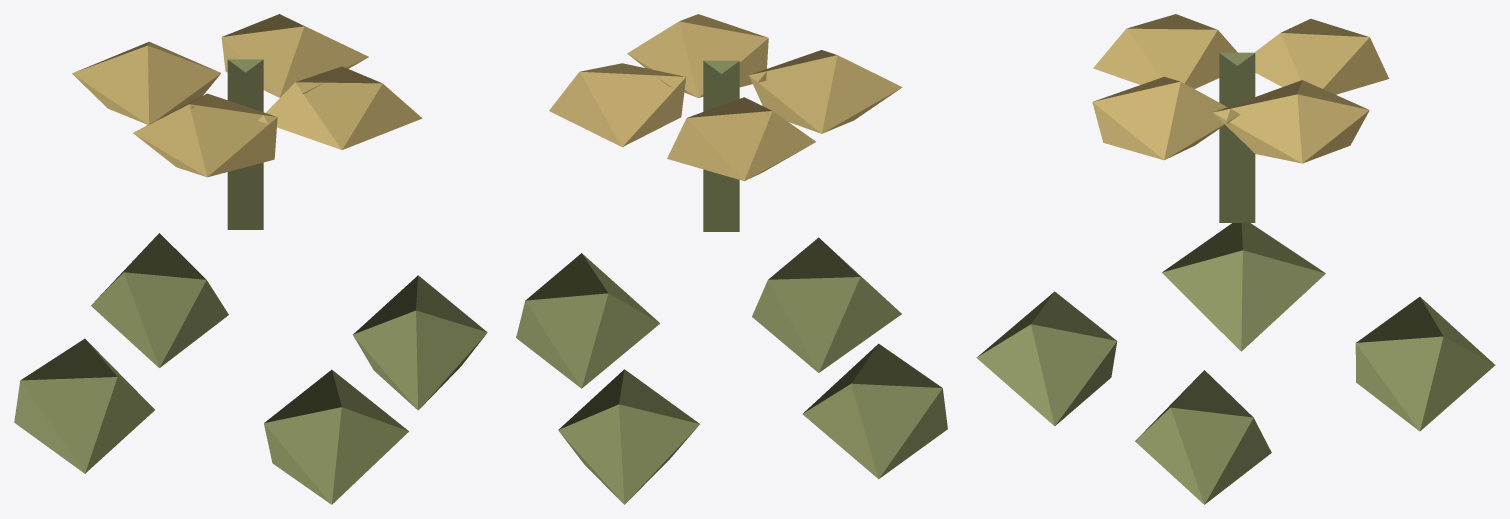
Rendered from shui.lian@subadult__autumn.glb.
The picture shows the model from 3 angles, left to right: view 1: azimuth 30°, elevation 25°; view 2: azimuth 150°, elevation 25°; view 3: azimuth 270°, elevation 25°; orthographic projection.
Visible parts, largest first — view 1: shui.lian@subadult__autumn; view 2: shui.lian@subadult__autumn; view 3: shui.lian@subadult__autumn.
Part boxes in pixels (left/top/right/bottom): shui.lian@subadult__autumn: left=14, top=14, right=487, bottom=504; shui.lian@subadult__autumn: left=516, top=14, right=947, bottom=504; shui.lian@subadult__autumn: left=976, top=14, right=1495, bottom=504.
Size of the model in its own units: 0.5973 by 0.4879 by 0.6018.
